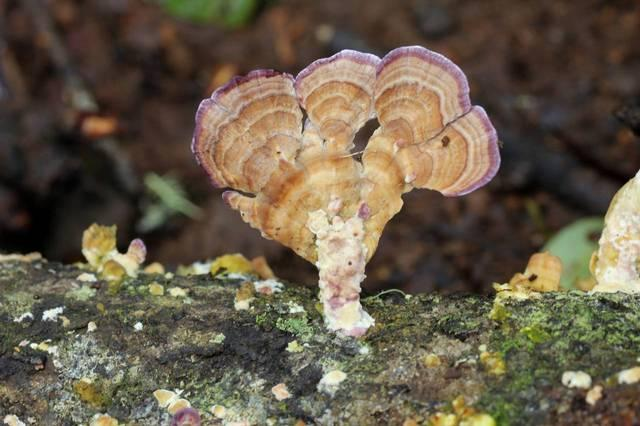poisonous_mushroom: (189, 43, 502, 337)
